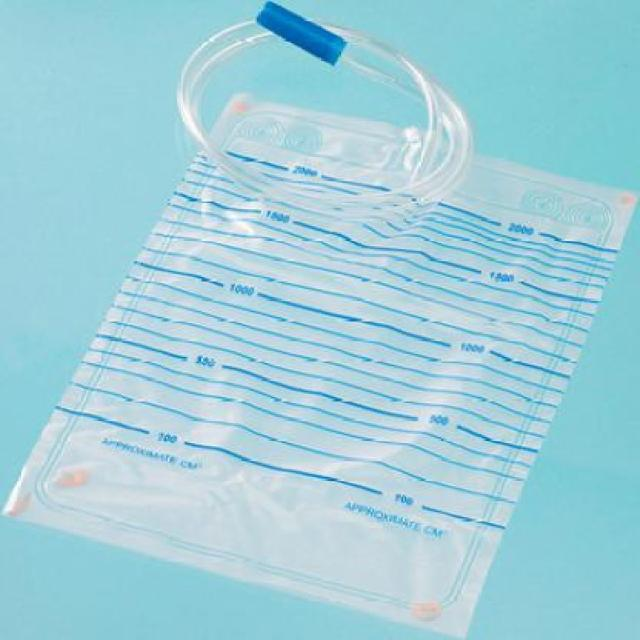B3: (3, 3, 639, 639)
